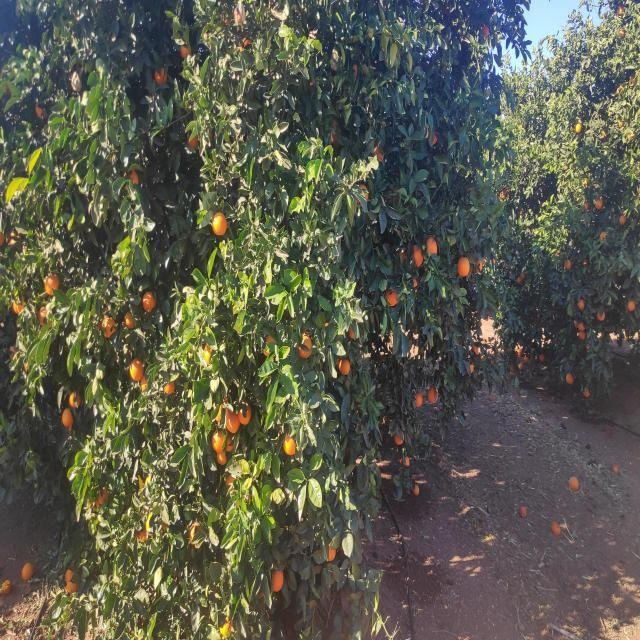Jeruk Sudah Matang: (226, 408, 240, 434), (212, 212, 227, 236), (130, 358, 144, 381), (299, 334, 312, 358), (123, 170, 138, 190), (263, 334, 276, 356), (283, 436, 297, 456), (38, 306, 52, 326), (272, 569, 284, 592), (212, 431, 225, 452), (142, 292, 156, 311), (46, 275, 60, 294), (356, 184, 368, 206), (219, 617, 231, 638), (102, 318, 115, 337), (239, 408, 252, 426), (413, 246, 424, 267), (140, 374, 150, 396), (458, 258, 470, 276), (189, 522, 201, 540), (339, 359, 351, 376), (155, 67, 167, 84), (427, 238, 438, 256), (13, 296, 24, 314), (62, 408, 73, 426), (386, 290, 398, 305), (125, 311, 135, 329), (373, 146, 384, 162), (70, 391, 80, 408), (326, 544, 336, 561), (428, 387, 439, 402), (217, 450, 227, 466), (146, 515, 154, 535), (88, 498, 99, 512), (36, 102, 45, 119), (188, 135, 198, 150), (98, 488, 108, 503), (180, 44, 190, 58), (226, 473, 234, 490), (164, 382, 175, 394), (205, 345, 212, 363), (414, 394, 423, 408), (394, 432, 404, 444), (400, 456, 410, 468), (427, 132, 437, 144), (242, 38, 252, 48), (227, 438, 234, 452), (140, 528, 147, 542), (412, 484, 420, 496), (159, 520, 167, 532), (566, 372, 574, 384), (628, 300, 636, 312), (597, 311, 606, 321), (476, 260, 482, 274), (481, 26, 489, 36), (578, 330, 586, 340), (564, 260, 572, 270), (574, 124, 582, 134), (617, 6, 625, 16), (134, 528, 140, 540), (472, 345, 479, 355), (595, 199, 602, 209), (618, 29, 625, 39), (630, 75, 636, 86), (578, 300, 584, 310), (600, 232, 606, 242), (620, 216, 626, 226), (578, 322, 585, 330), (584, 388, 590, 397), (469, 364, 474, 374), (521, 272, 527, 280), (539, 354, 544, 362), (584, 202, 589, 210), (524, 356, 530, 362), (518, 276, 522, 284), (518, 348, 522, 356), (481, 258, 484, 266), (518, 364, 522, 369)
